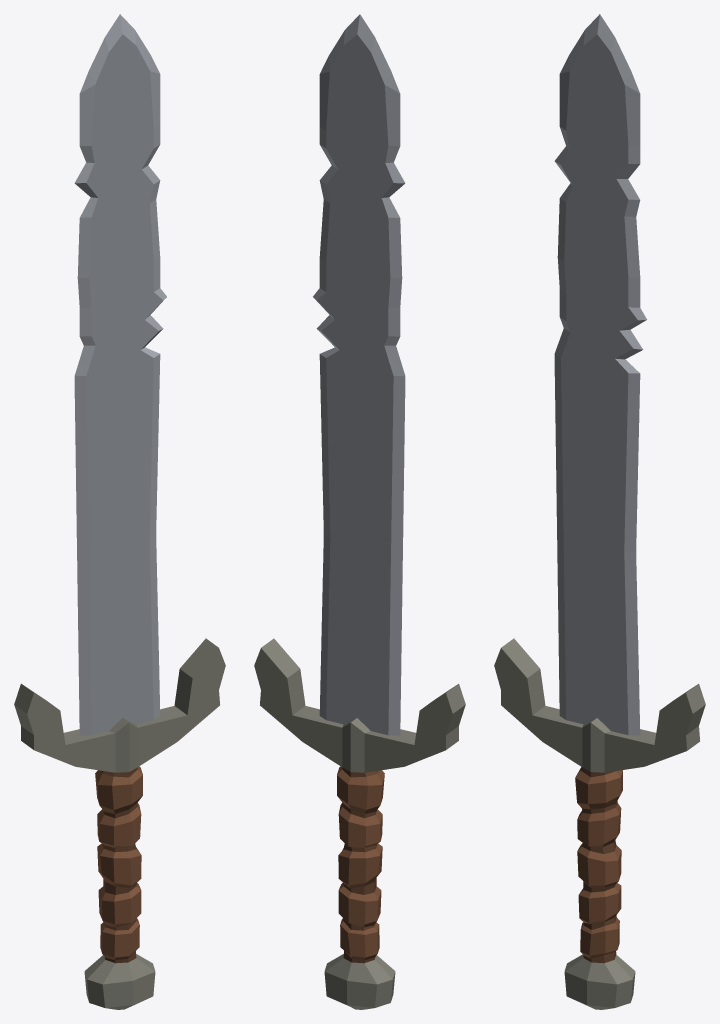
Rendered from armory-paladin-0.glb.
3 renders of one model, left to right at view 1: azimuth 30°, elevation 25°; view 2: azimuth 150°, elevation 25°; view 3: azimuth 330°, elevation 25°, orthographic.
Visible parts, largest first — view 1: Sword_Cylinder; view 2: Sword_Cylinder; view 3: Sword_Cylinder.
Boxes of the visible parts, <box> form: Sword_Cylinder: <box>14,14,225,1009</box>; Sword_Cylinder: <box>254,14,465,1009</box>; Sword_Cylinder: <box>494,14,705,1009</box>.
Size of the model in its own units: 1.14 by 5.45 by 0.2611.
